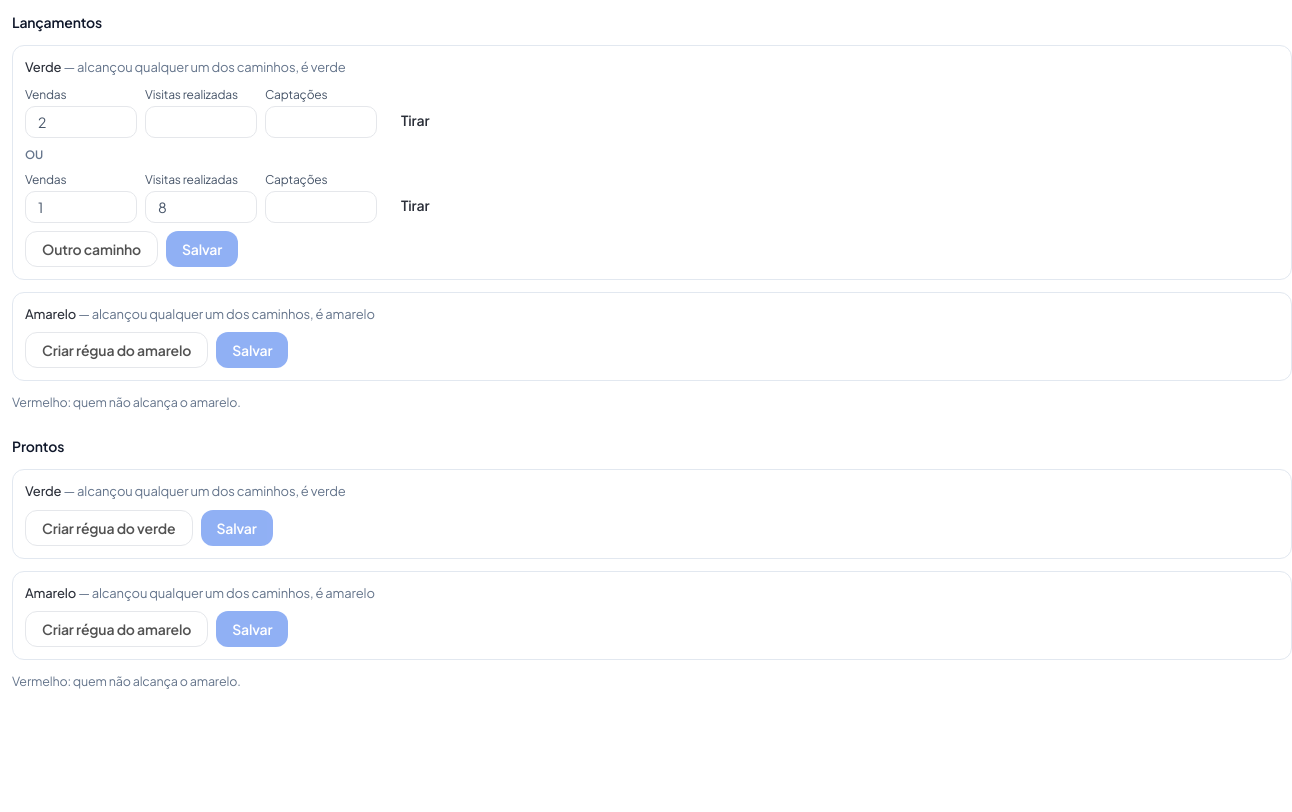
Scenario: A.3 · editor da régua › valor fora de 1..999 inteiro não sai
This screenshot has width=1292, height=812.
Replace the text in the number field named "Verde · caminho 1 · Vendas" with "2.5". click: (81, 122)
box: [25,106,137,138]
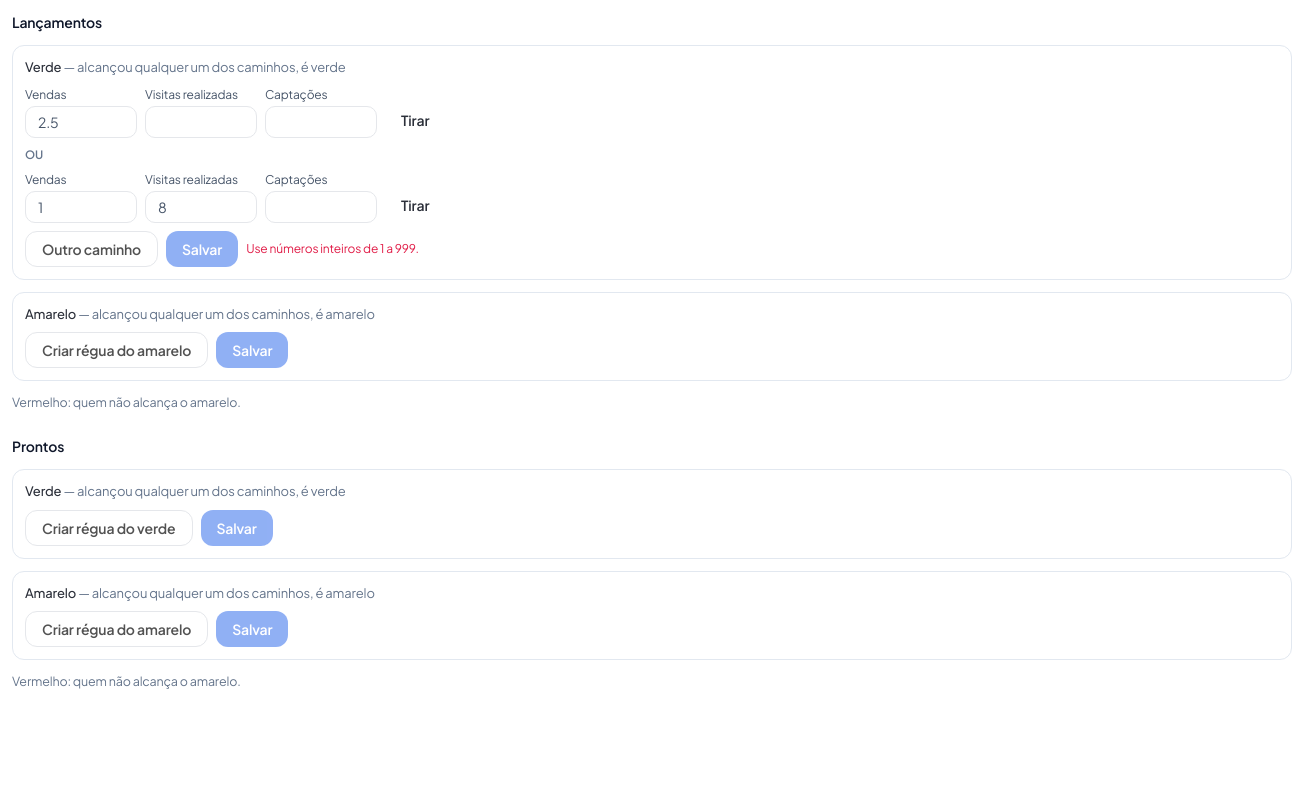
Expected: the button "Salvar" next to "Use números inteiros de 1 a 999." is disabled, [166,231,238,267]
Now the message reads "Use números inteiros de 1 a 999.", box [246,241,419,256]
